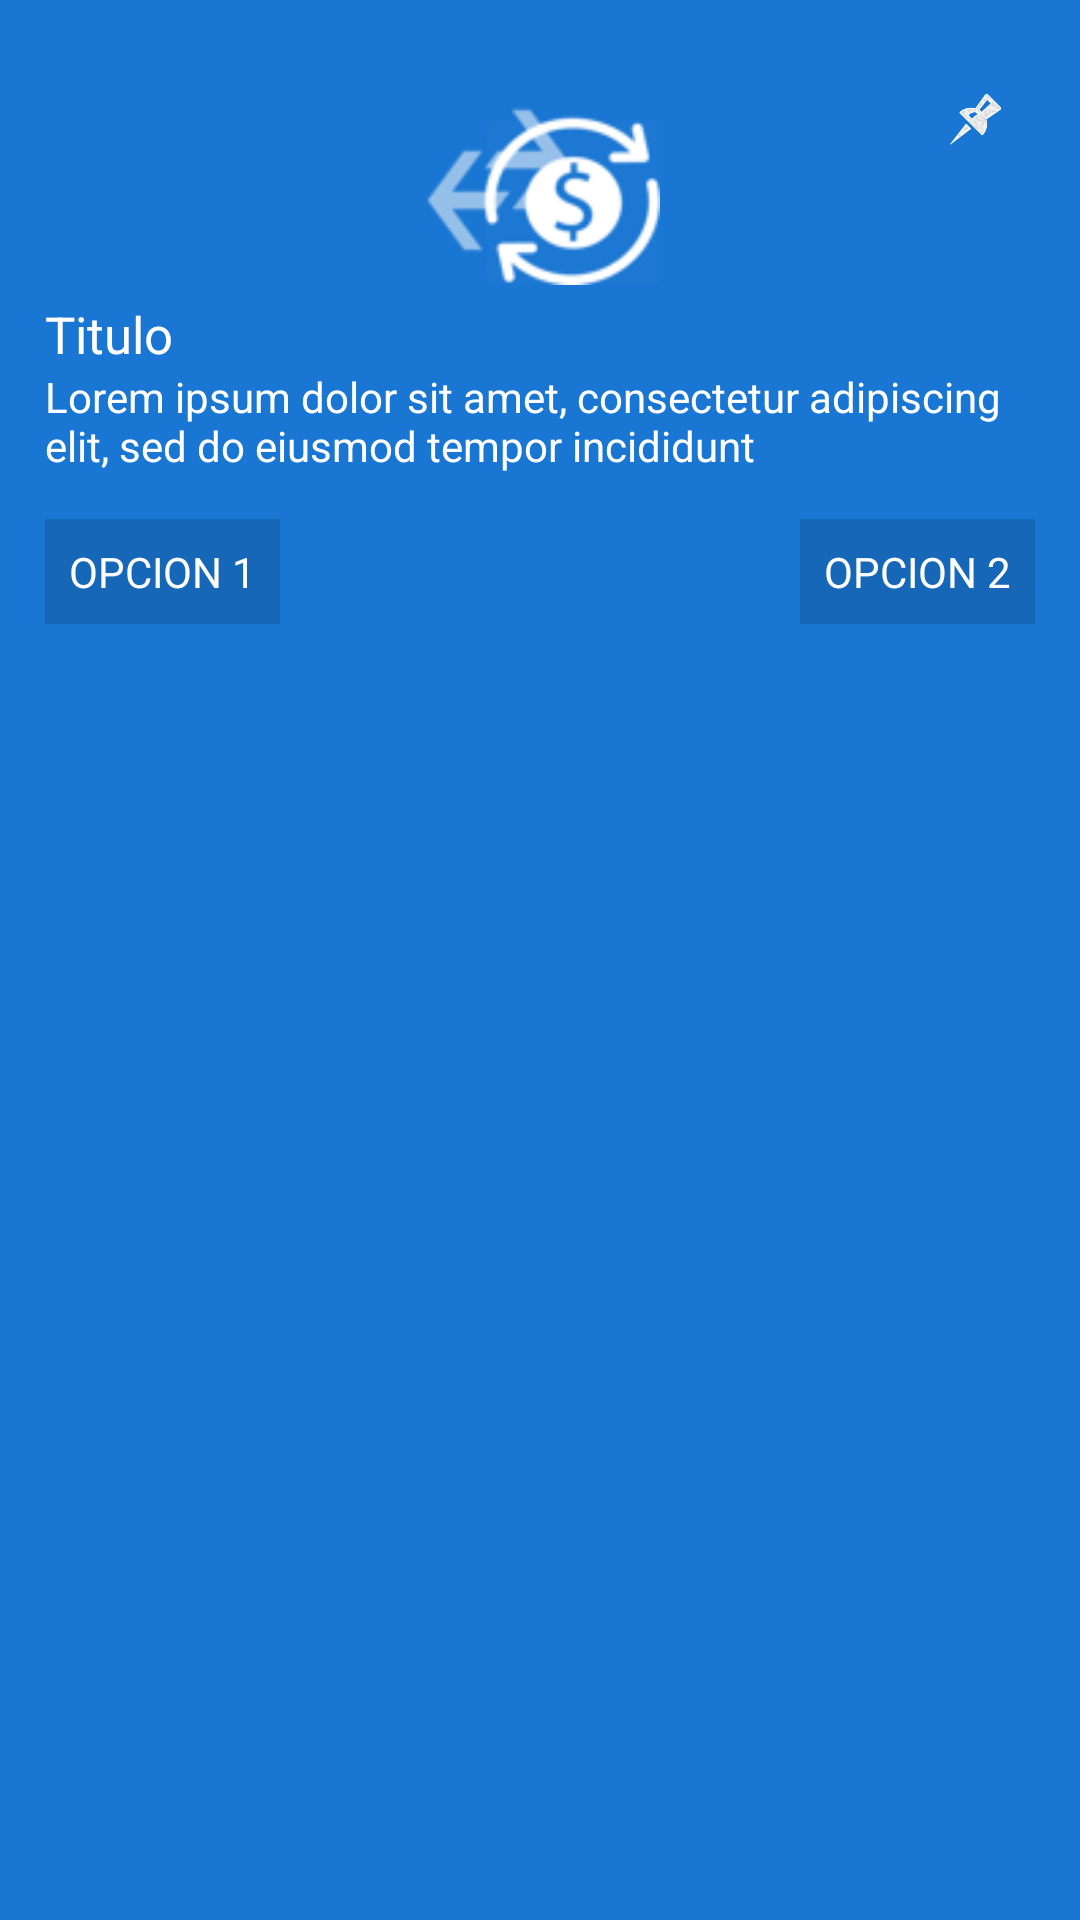

Locate icon controls on the screen. Image size 1080 × 1920, boxes as bbox(x1, y1, x2, y2).
card transfer: bbox(427, 109, 660, 285)
pin: bbox(949, 94, 1001, 146)
